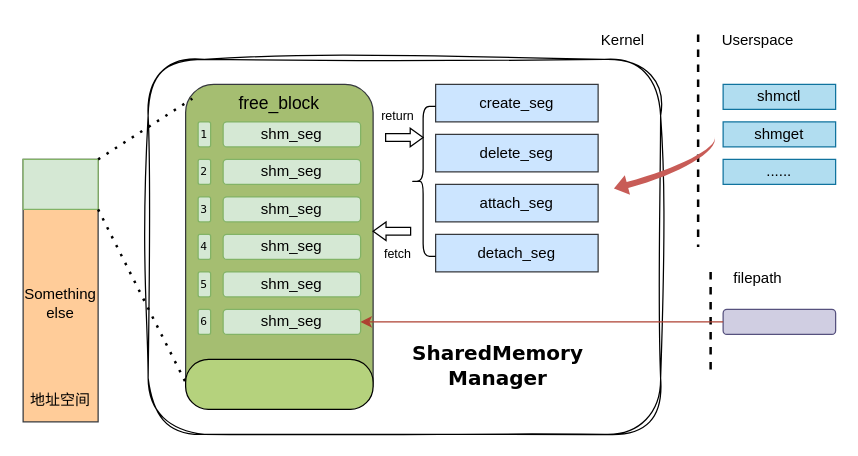
The diagram is 858 pixels wide and 456 high, and some of its shapes have lost their labels. The shapes that lost their labels are listed below. From the top down, each one's centre as x and y in pixels, then its label:
At point (60, 183): "Shm".
At point (779, 321): "/dev/shm/6".
At point (278, 383): "Internal Allocator".
